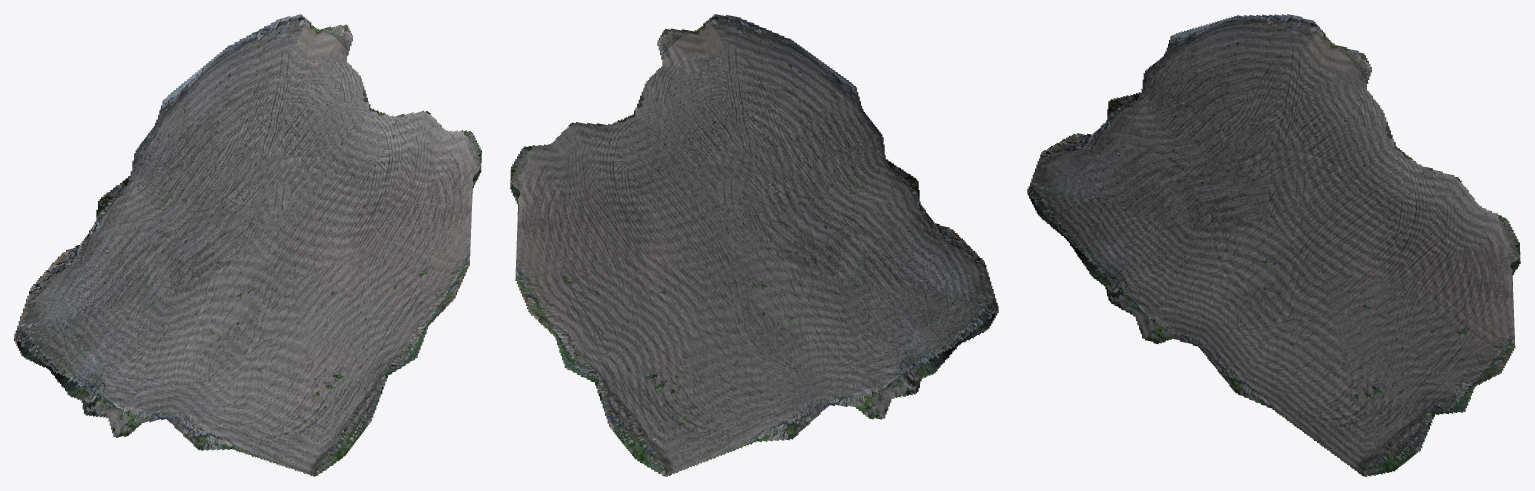
The model's file is field_soil.obj.
3 renders of one model, left to right at view 1: azimuth 30°, elevation 25°; view 2: azimuth 150°, elevation 25°; view 3: azimuth 330°, elevation 25°, orthographic. The views are drawn at different scales.
Visible parts, largest first — view 1: field_soil_sim; view 2: field_soil_sim; view 3: field_soil_sim.
Part boxes in pixels (bbox=[...]): field_soil_sim: bbox=[14, 14, 481, 476]; field_soil_sim: bbox=[510, 14, 998, 476]; field_soil_sim: bbox=[1027, 14, 1520, 476].
Size of the model in its own units: 70 by 66 by 7.32.
Materials: 1 (1 with a texture image).
